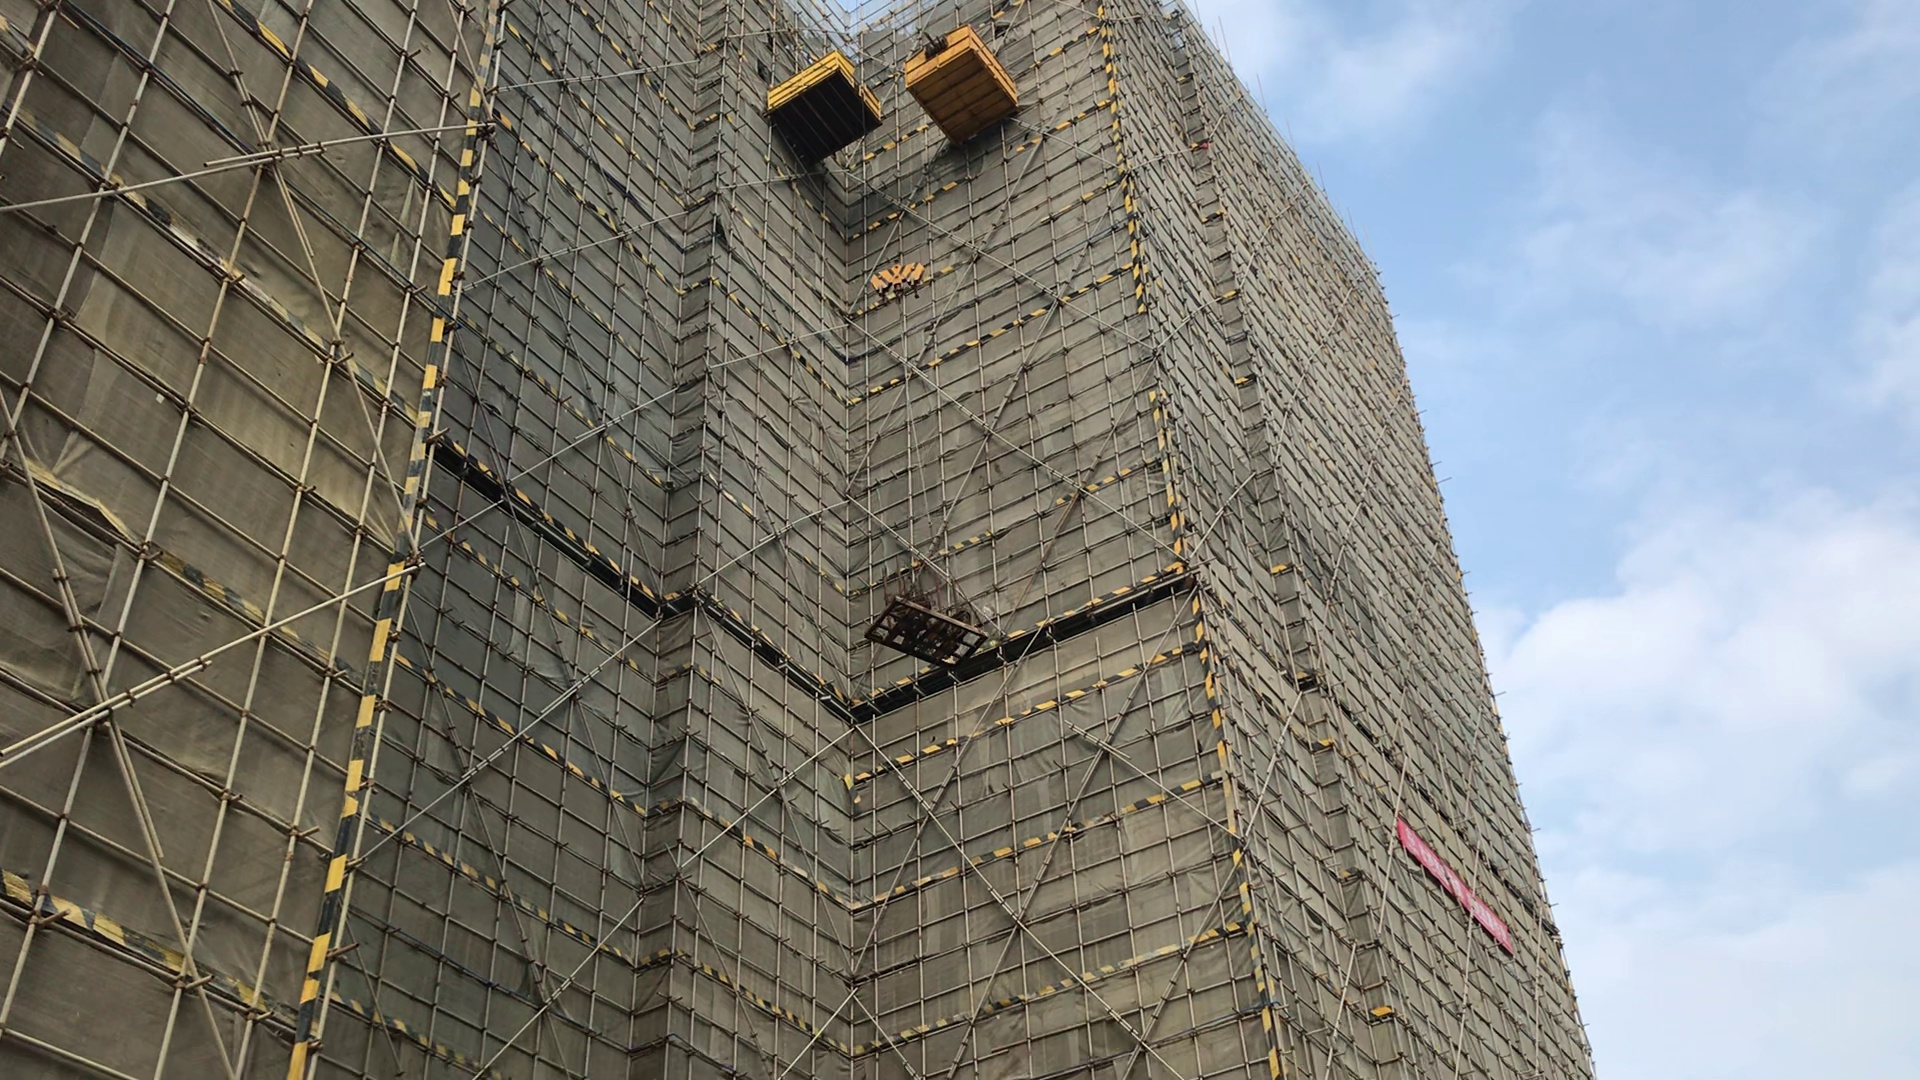hook: (868, 251, 935, 303)
slogan: (1399, 815, 1565, 975)
